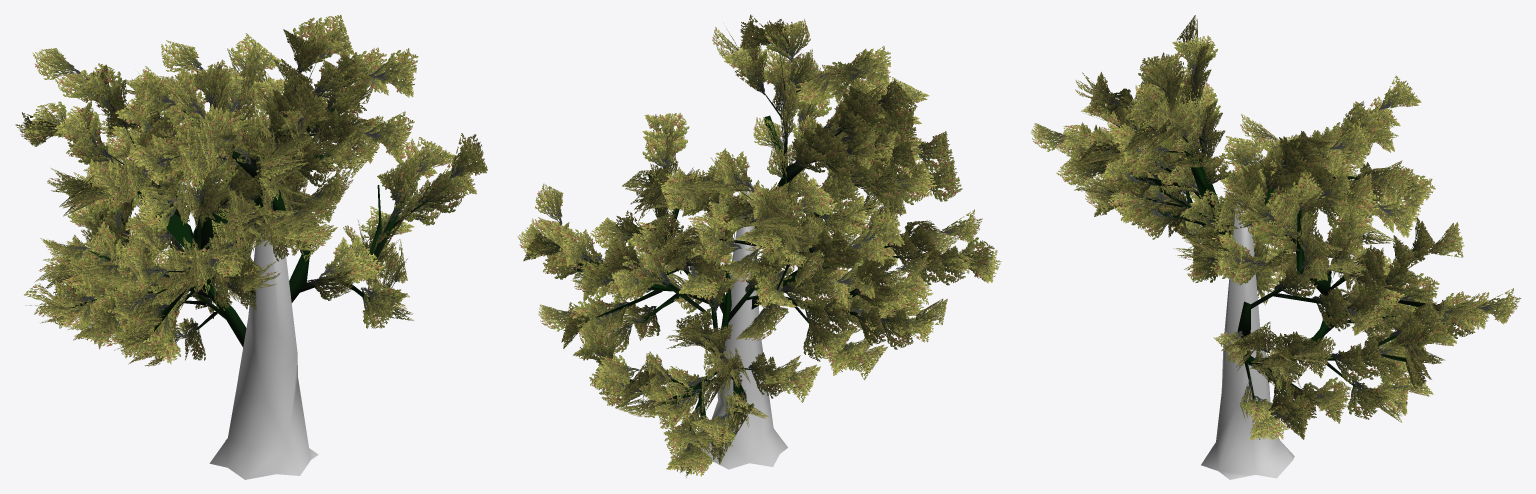
File: tree6_4_afsTREE_xlprl_LOD2.fbx
3 renders of one model, left to right at view 1: azimuth 30°, elevation 25°; view 2: azimuth 150°, elevation 25°; view 3: azimuth 270°, elevation 25°, orthographic. The views are drawn at different scales.
Parts seen in each view (by area): view 1: branch_xw15_xt10_xp20, leaf.140, leaf.320, leaf.135, leaf.001, leaf.235, leaf.022, leaf.015, leaf.158, leaf1.226, leaf.055, leaf.250 (+42 smaller); view 2: branch_xw15_xt10_xp20, leaf.330, leaf.074, leaf1.255, leaf.034, leaf.190, leaf.261, leaf.188, leaf1.265, leaf1.151, leaf1.325, leaf.100 (+24 smaller); view 3: branch_xw15_xt10_xp20, leaf.086, leaf.066, leaf.292, leaf.005, leaf.049, leaf.155, branch.001_xt17_xp19, leaf.234, leaf.160, leaf.045, leaf.111 (+22 smaller).
Part boxes in pixels (x1,y1,x2,y2): branch_xw15_xt10_xp20: [209, 223, 318, 479]; leaf.140: [369, 48, 418, 97]; leaf.320: [139, 186, 183, 231]; leaf.135: [364, 111, 414, 158]; leaf.001: [361, 288, 407, 328]; leaf.235: [132, 71, 175, 122]; leaf.022: [319, 237, 370, 284]; leaf.015: [450, 133, 487, 178]; leaf.158: [71, 63, 122, 109]; leaf1.226: [69, 120, 112, 163]; leaf.055: [231, 33, 281, 75]; leaf.250: [178, 146, 212, 189]; branch_xw15_xt10_xp20: [701, 182, 787, 469]; leaf.330: [862, 207, 904, 244]; leaf.074: [573, 329, 616, 365]; leaf1.255: [917, 132, 948, 172]; leaf.034: [581, 260, 614, 301]; leaf.190: [856, 46, 890, 85]; leaf.261: [866, 169, 904, 204]; leaf.188: [820, 61, 863, 103]; leaf1.265: [926, 163, 957, 201]; leaf1.151: [702, 221, 741, 260]; leaf1.325: [798, 178, 832, 212]; leaf.100: [679, 267, 720, 297]; branch_xw15_xt10_xp20: [1201, 194, 1294, 479]; leaf.086: [1347, 379, 1389, 419]; leaf.066: [1331, 346, 1368, 383]; leaf.292: [1180, 189, 1223, 228]; leaf.005: [1276, 393, 1312, 439]; leaf.049: [1318, 166, 1357, 212]; leaf.155: [1397, 175, 1435, 216]; branch.001_xt17_xp19: [1185, 151, 1230, 243]; leaf.234: [1172, 35, 1217, 74]; leaf.160: [1378, 75, 1421, 109]; leaf.045: [1330, 119, 1370, 152]; leaf.111: [1382, 261, 1421, 295].
Bounding box in the file's own units: 444 × 427 × 467.
